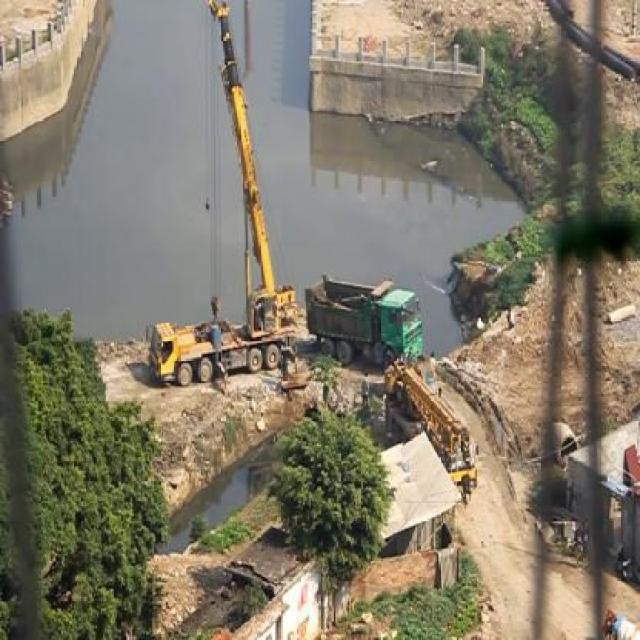Dump Truck: (306, 278, 425, 353)
Mobile Crane: (149, 2, 302, 386), (382, 357, 476, 498)
